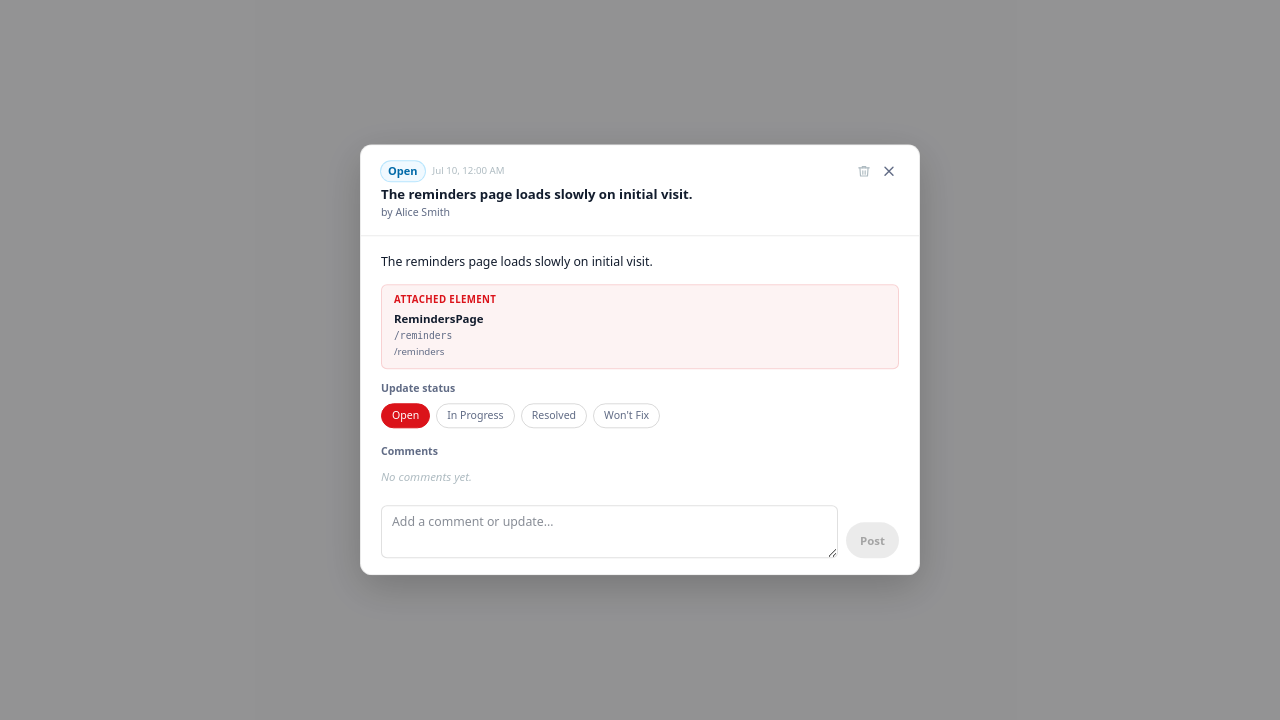
it: FeedbackDetailModal — Enter posts a comment › posts on a bare Enter, with no click on Post
The width and height of the screenshot is (1280, 720).
Type "Still happening" into the text box with placeholder "Add a comment or update…" at (610, 532), box [381, 506, 838, 559]
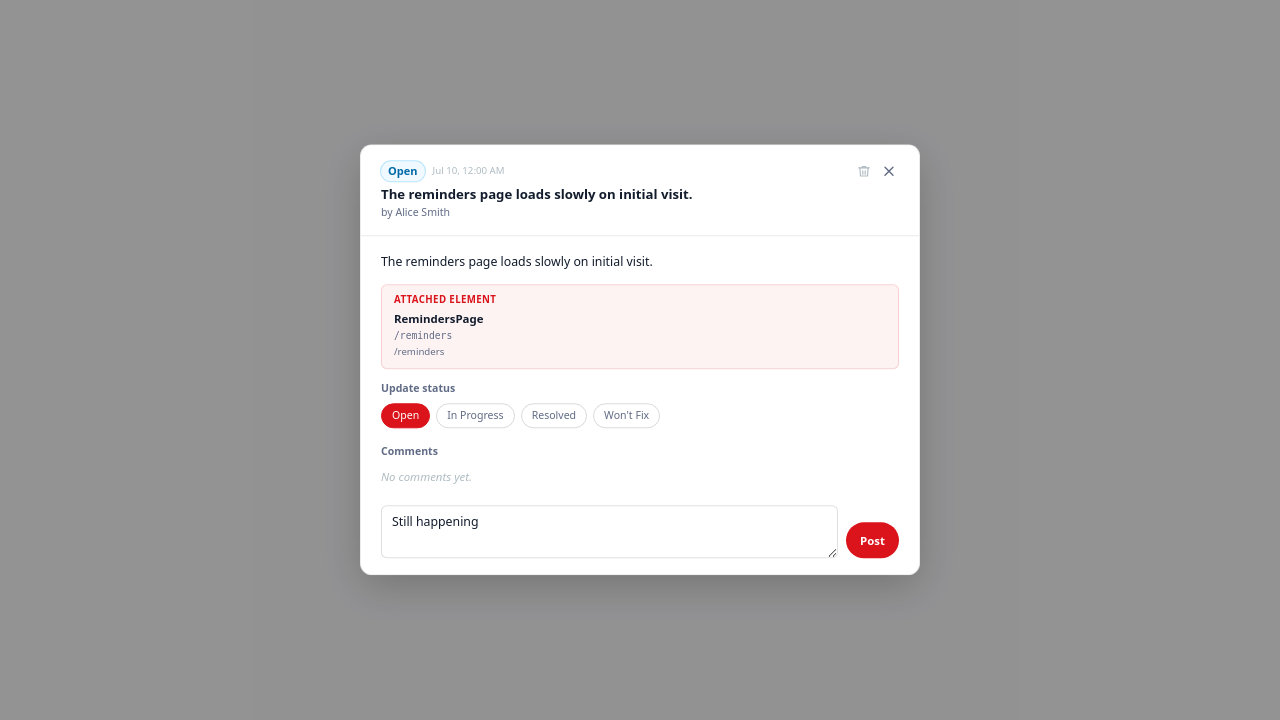
Press Enter in the text box with placeholder "Add a comment or update…", box [381, 506, 838, 559]
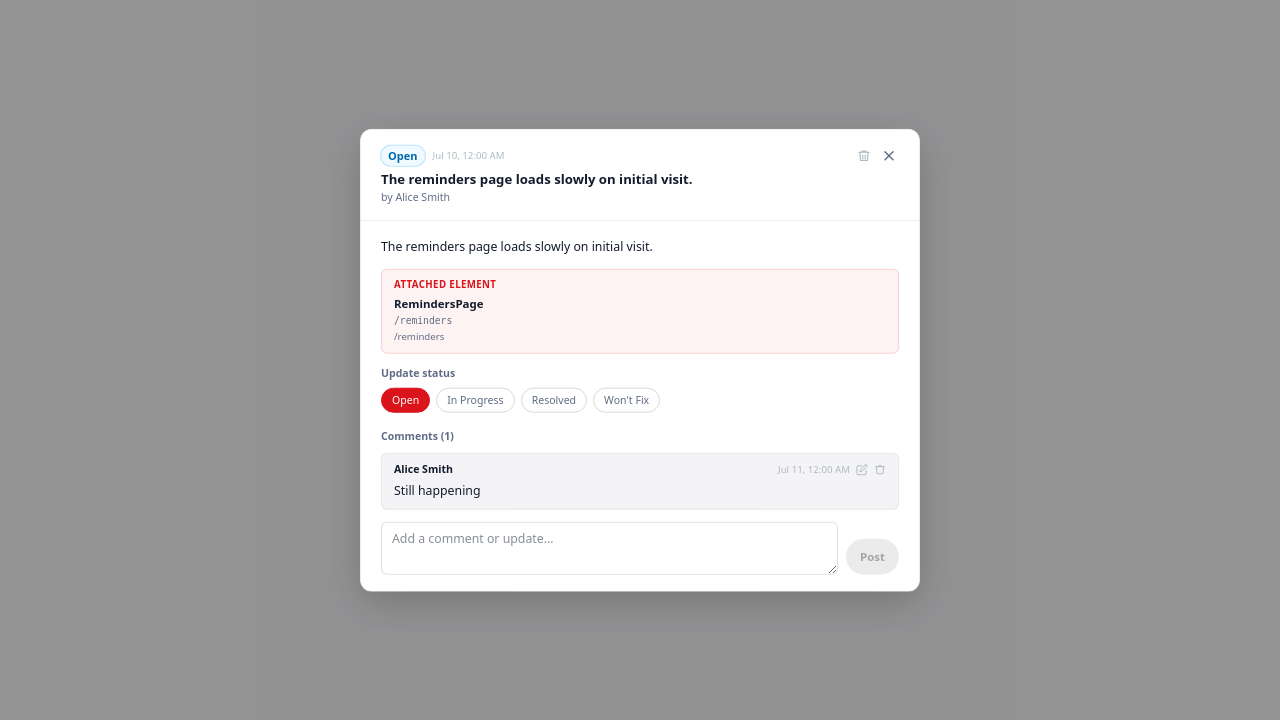
Check: the text "Still happening" is shown, box [394, 482, 480, 499]
